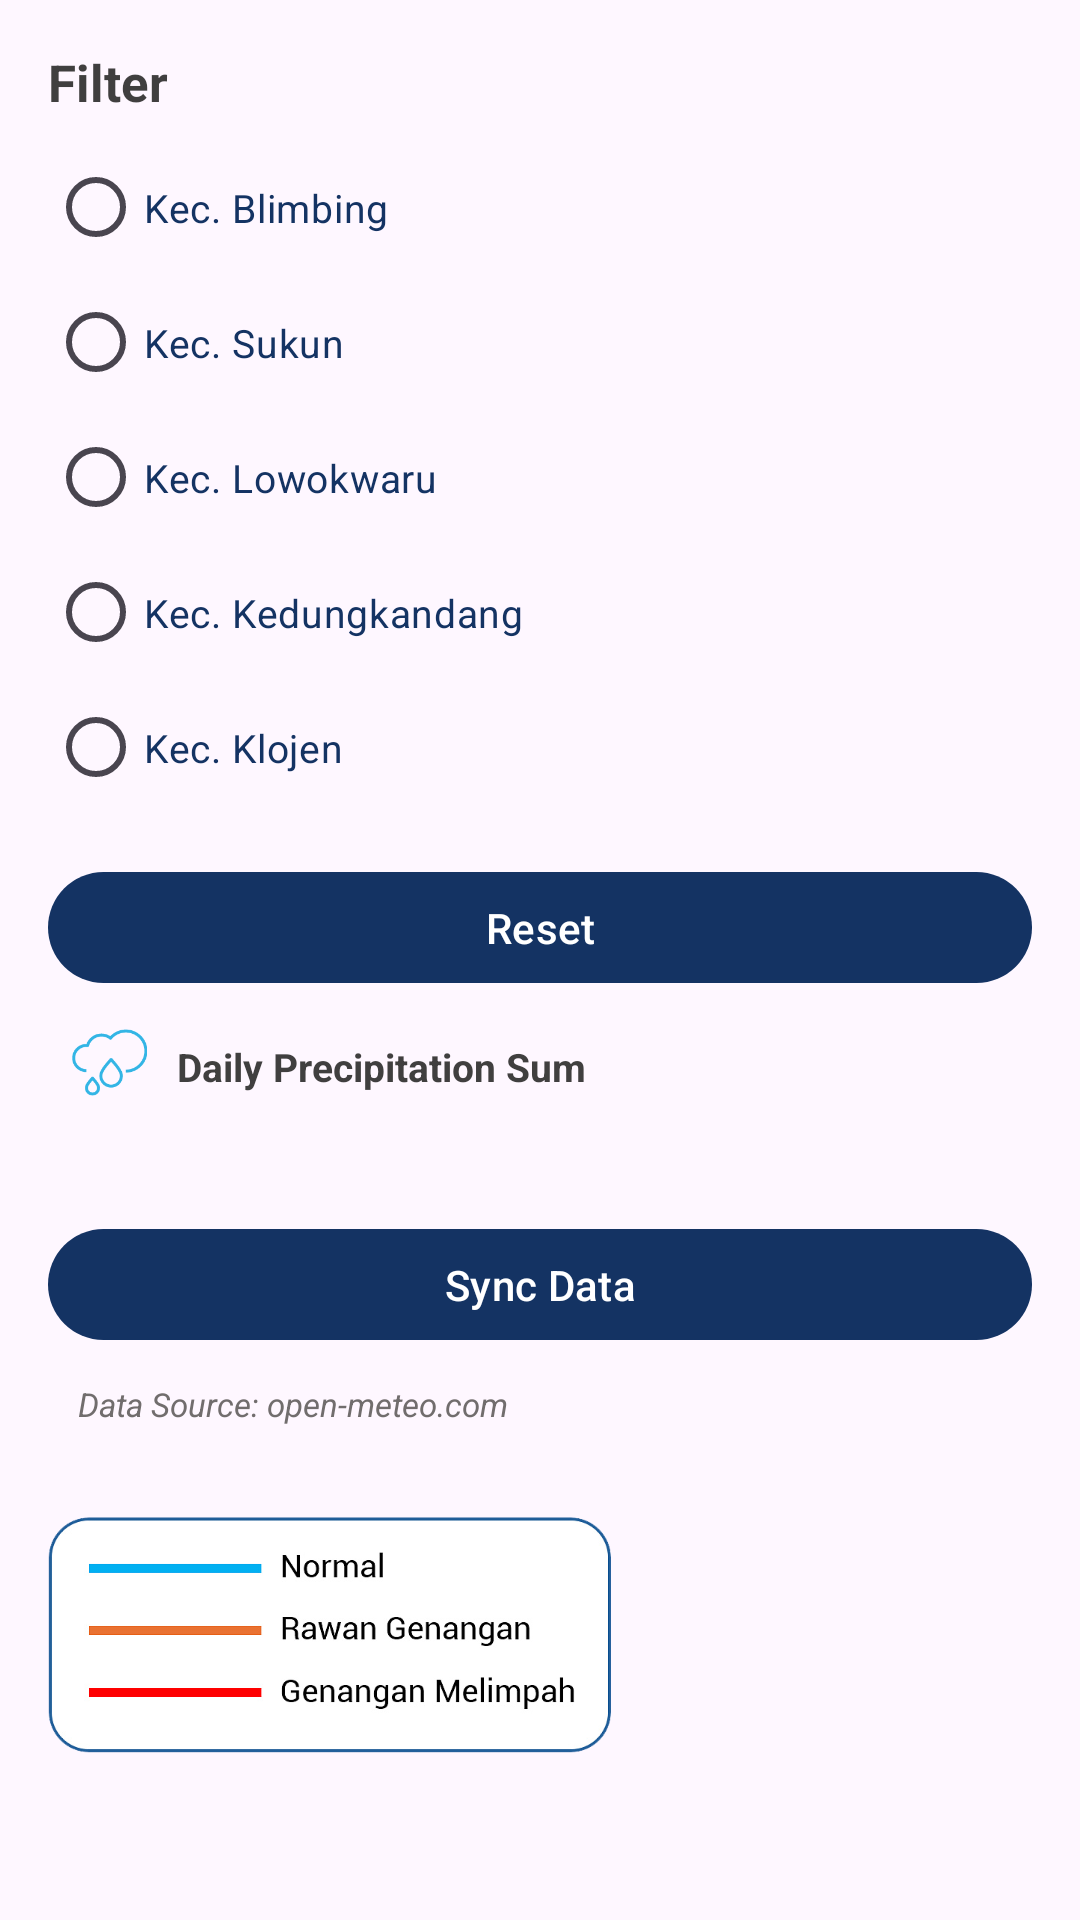

Icons on this 1080px×1920px Android screen, each with its box as box(x1, y1, x2, y2):
hujan: box(72, 1029, 147, 1096)
